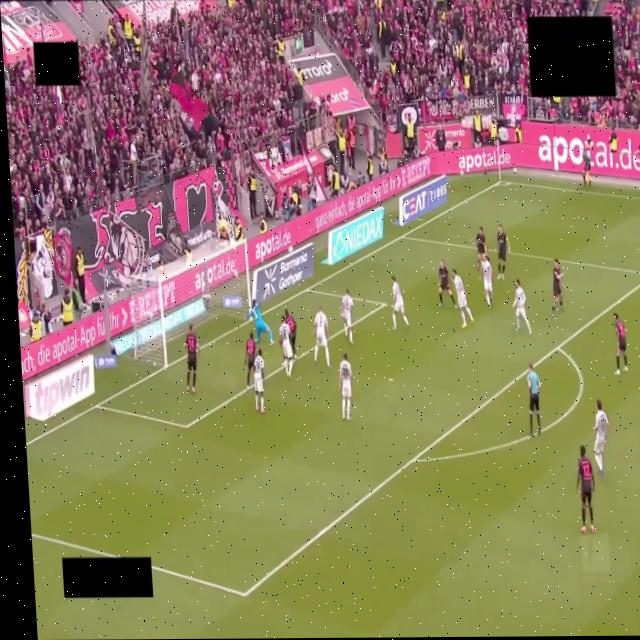player: (576, 445, 594, 533), (452, 269, 473, 328), (594, 399, 609, 475), (313, 307, 330, 368), (250, 299, 273, 344), (184, 325, 199, 393), (513, 279, 531, 334), (392, 276, 409, 329), (279, 316, 293, 379), (339, 353, 352, 420), (614, 313, 627, 375), (438, 261, 455, 307), (479, 253, 493, 308), (497, 224, 510, 279), (254, 349, 265, 413), (470, 228, 487, 269), (552, 259, 564, 316), (341, 290, 353, 343), (245, 333, 256, 387), (285, 310, 296, 359)
referee: (527, 364, 541, 435)
